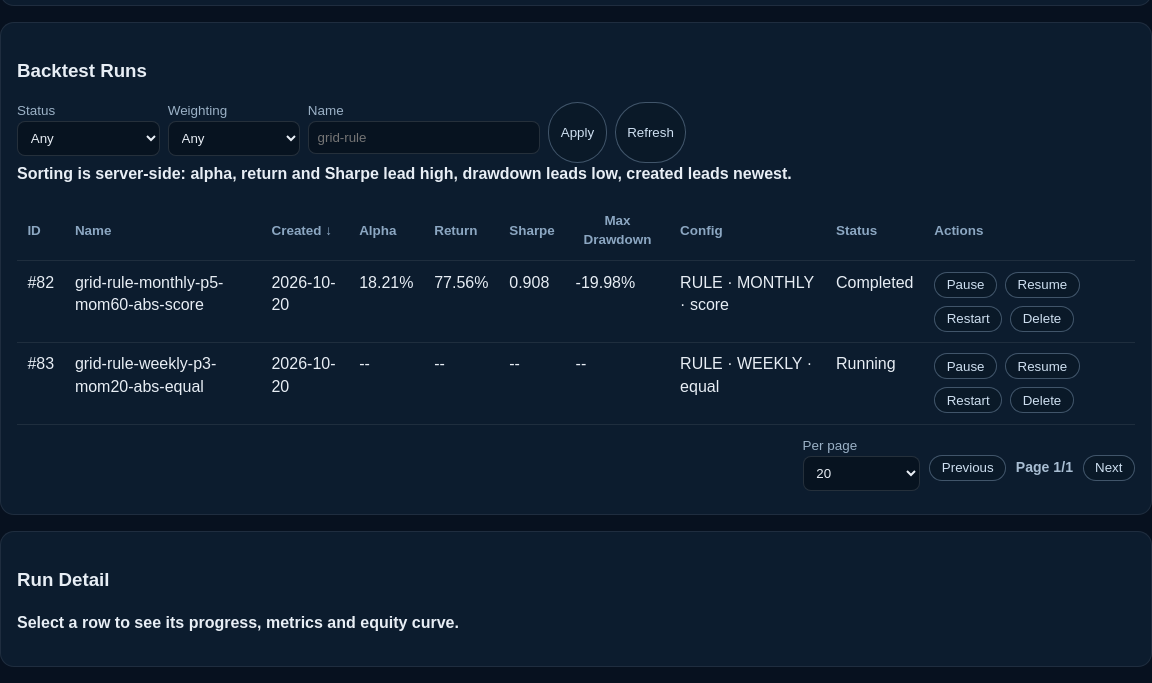
Scenario: EtfBacktestWorkbenchPage › handles a 400 from an action, and clears the detail when a finished row is deleted
The width and height of the screenshot is (1152, 683).
(page scrolled)
Note: Resume is refused for a RUNNING row by the same rule the buttons implement.
Step 1. Click the text "#83" → (576, 383), box [17, 342, 1135, 424]
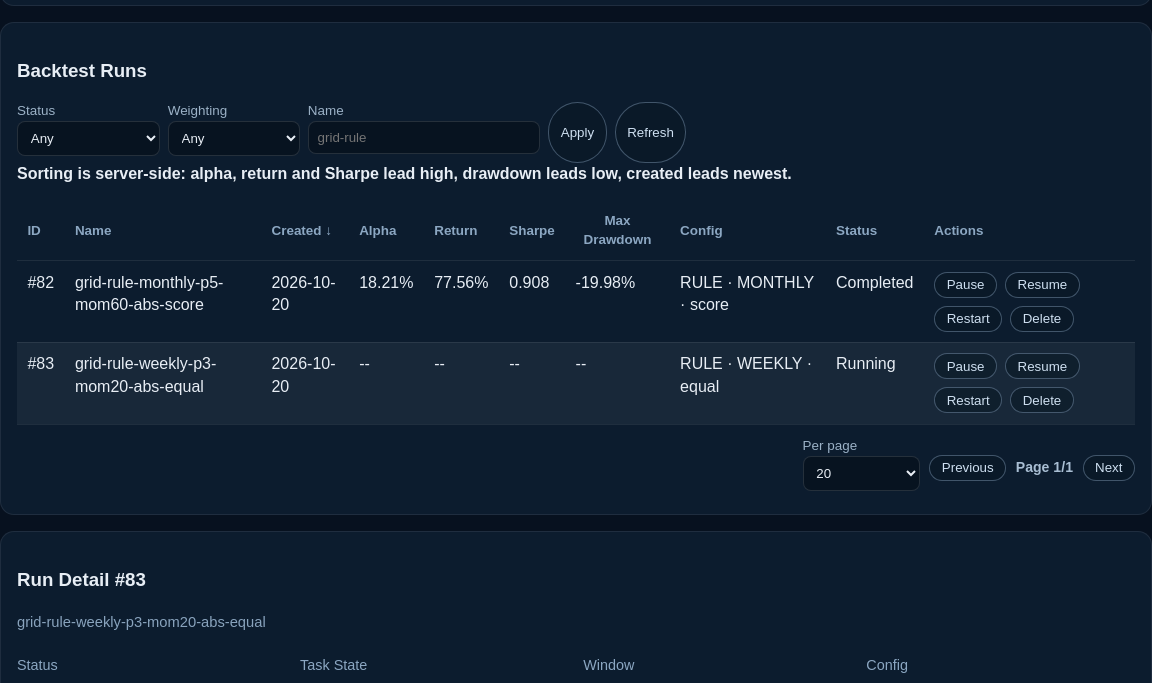
Step 2. Click the text "#82" → (576, 302), box [17, 261, 1135, 342]
(page scrolled)
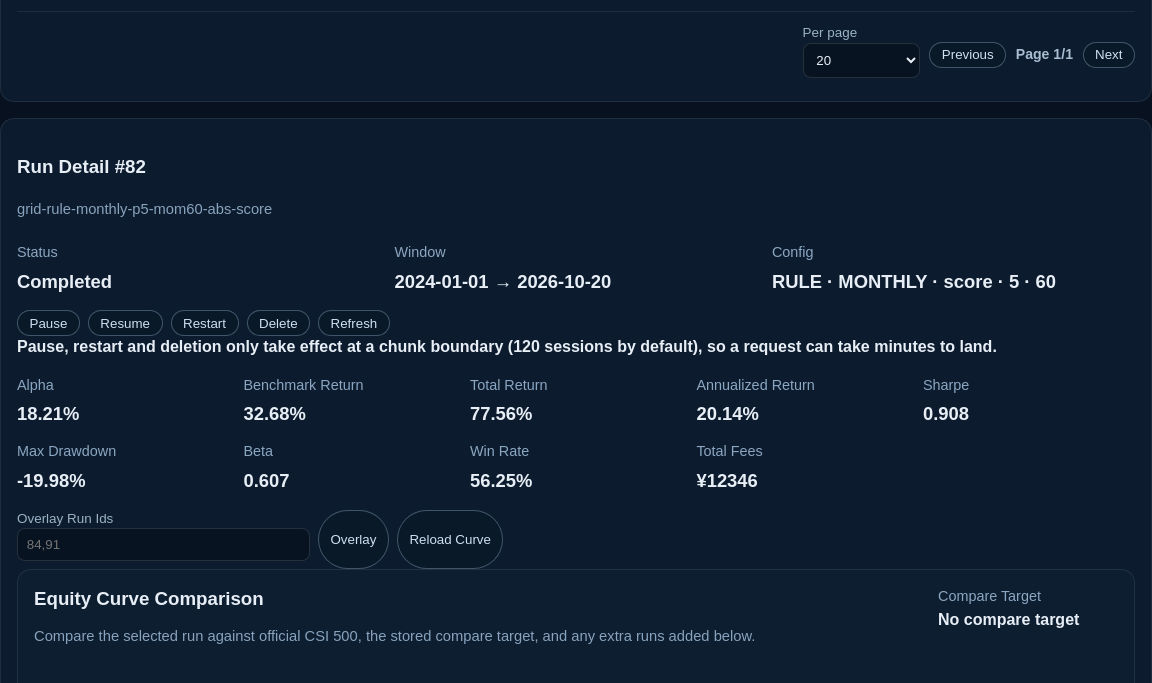
Step 3. Click the button "Delete" below "2024-01-01" → (278, 323), box [246, 310, 310, 336]
(page scrolled)
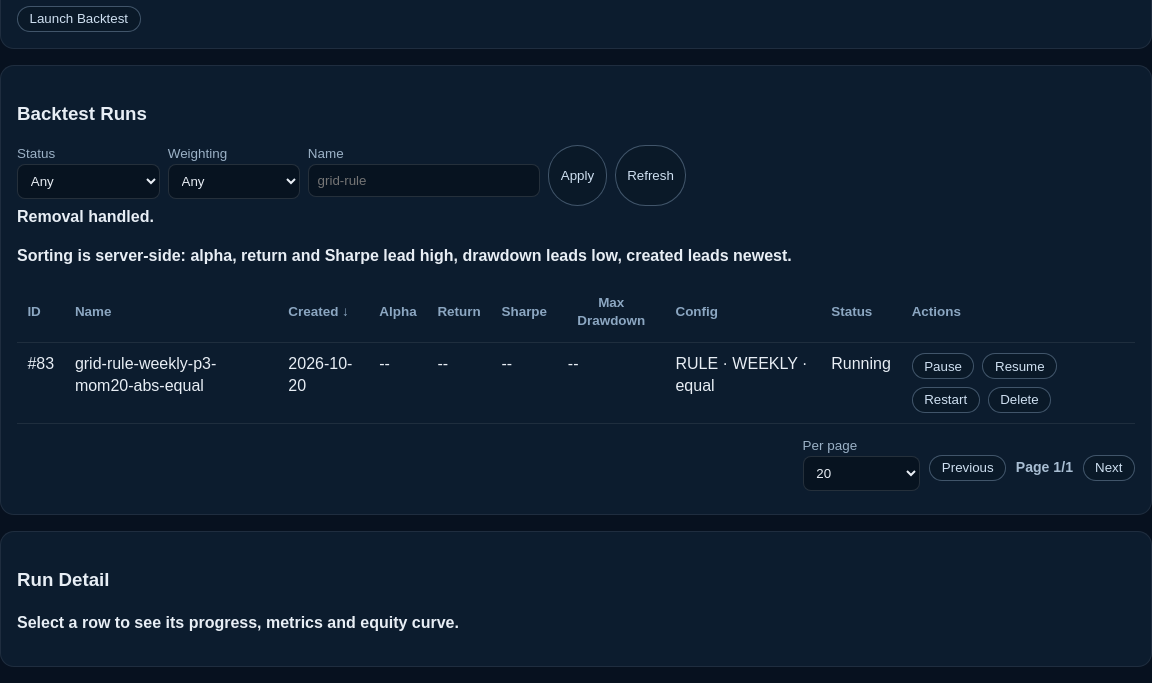
Result: the text "Removal handled." is shown at [17, 208, 154, 226]
Result: the text "Select a row to see its progress, metrics and equity curve." is shown at [17, 614, 459, 631]
